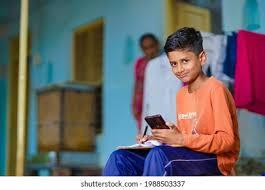Human: (99, 22, 242, 177)
